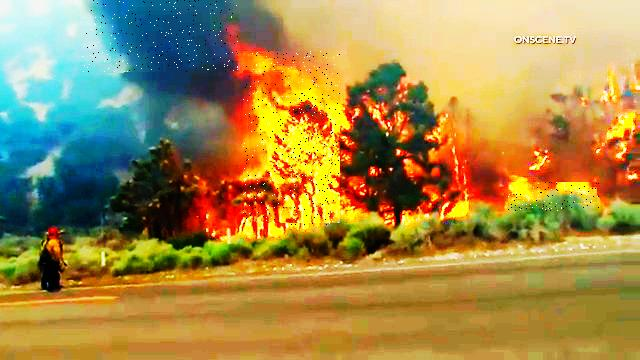fire: (243, 52, 340, 226), (509, 183, 600, 212)
smoke: (82, 0, 238, 73)
